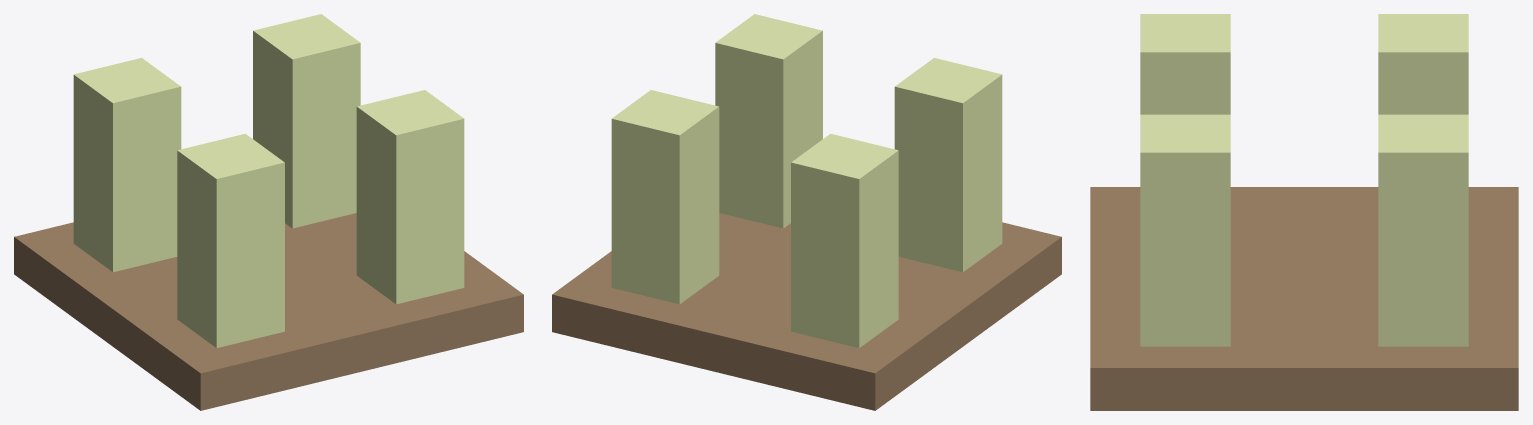
File: Prop_DS_Crop_Groat_S3_V2.glb
3 renders of one model, left to right at view 1: azimuth 30°, elevation 25°; view 2: azimuth 150°, elevation 25°; view 3: azimuth 270°, elevation 25°, orthographic. The views are drawn at different scales.
Visible parts, largest first — view 1: Cube, Cube.003, Cube.001, Cube.002, Cube.004; view 2: Cube, Cube.004, Cube.002, Cube.001, Cube.003; view 3: Cube, Cube.003, Cube.004, Cube.001, Cube.002.
Part boxes in pixels (x1,y1,x2,y2): Cube: [14, 213, 523, 410]; Cube.003: [356, 90, 464, 304]; Cube.001: [177, 133, 284, 348]; Cube.002: [73, 58, 181, 272]; Cube.004: [253, 14, 360, 228]; Cube: [552, 213, 1061, 410]; Cube.004: [611, 90, 719, 304]; Cube.002: [791, 133, 898, 348]; Cube.001: [894, 58, 1002, 272]; Cube.003: [715, 14, 822, 228]; Cube: [1090, 187, 1518, 410]; Cube.003: [1140, 114, 1230, 346]; Cube.004: [1378, 114, 1468, 346]; Cube.001: [1140, 14, 1230, 114]; Cube.002: [1378, 14, 1468, 114].
Size of the model in its own units: 0.9 by 0.55 by 0.9.
